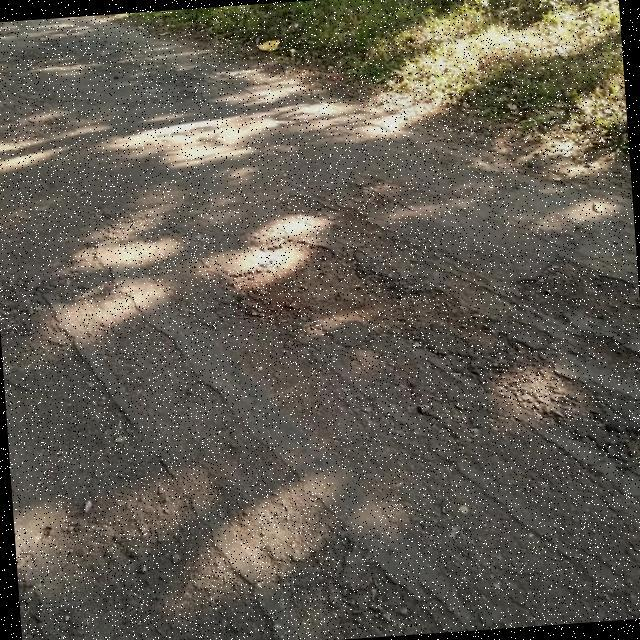Pothole: (228, 228, 417, 343)
